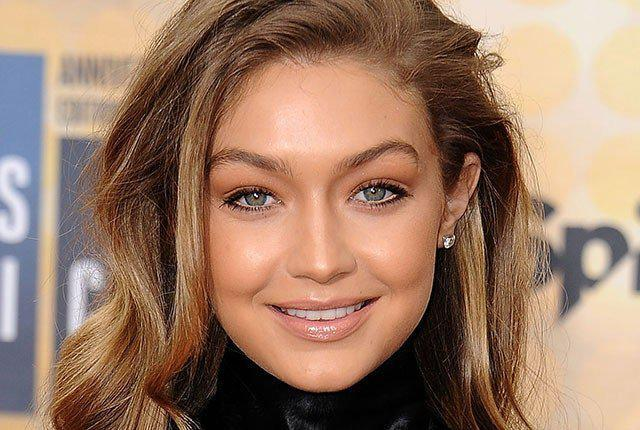Sober: (209, 77, 426, 362)
